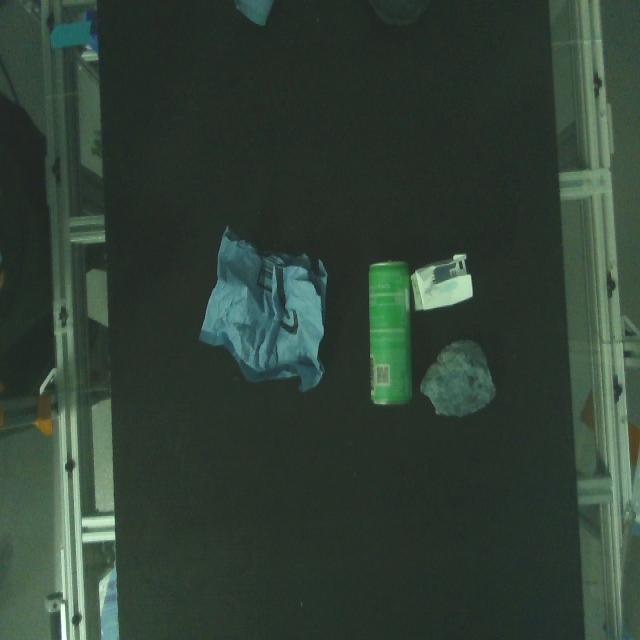non-paper: (418, 336, 500, 430), (367, 256, 413, 407)
paper: (197, 218, 331, 396), (410, 249, 475, 315)
